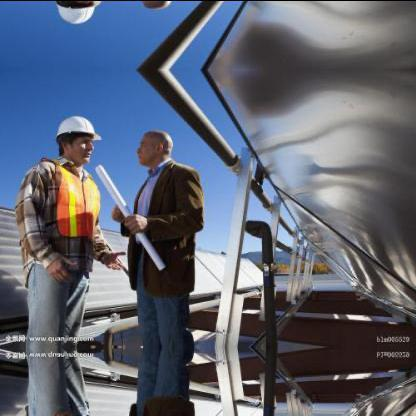Helmet: (51, 108, 99, 166), (50, 0, 100, 29)
No Helmet: (130, 126, 174, 166), (129, 0, 175, 11)
